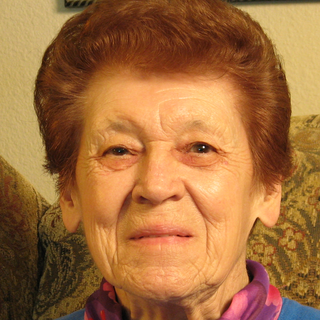eye: (92, 139, 145, 166), (174, 136, 228, 162)
